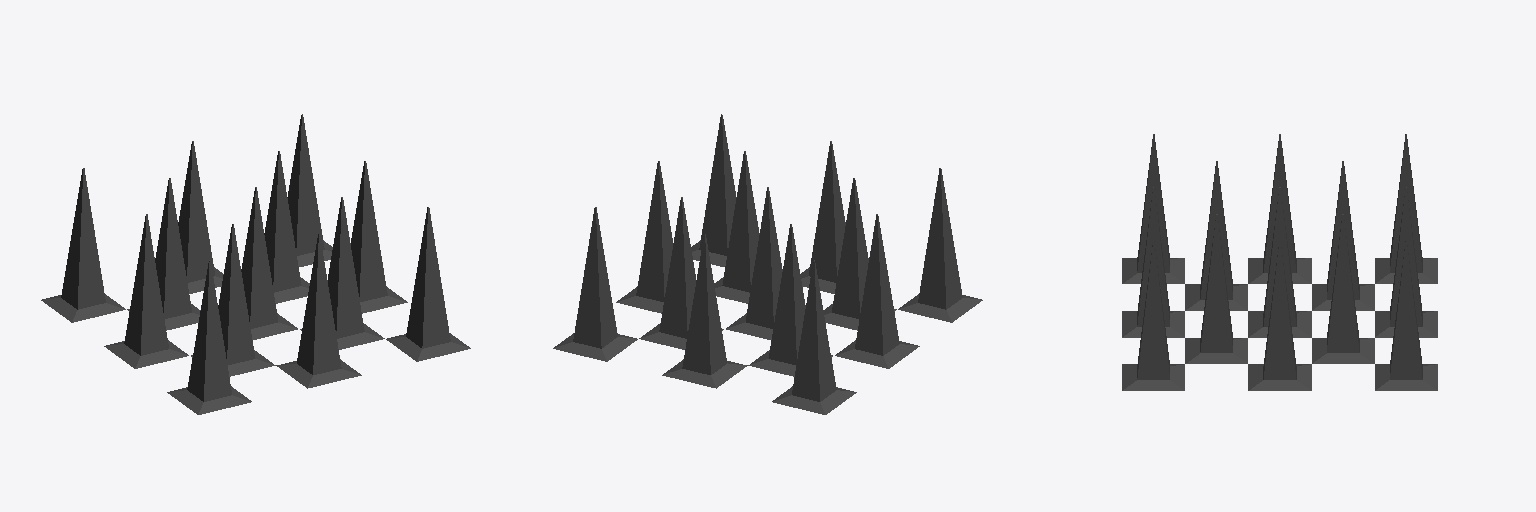
File: Spikes.obj
3 views of the same model, side by side, from view 1: azimuth 30°, elevation 25°; view 2: azimuth 150°, elevation 25°; view 3: azimuth 270°, elevation 25° (orthographic).
Visible parts, largest first — view 1: Spikes001; view 2: Spikes001; view 3: Spikes001.
Part boxes in pixels (x1,y1,x2,y2): Spikes001: (41,114,470,414); Spikes001: (553,114,982,414); Spikes001: (1122,134,1437,390).
Size of the model in its own units: 127 by 60.66 by 127.